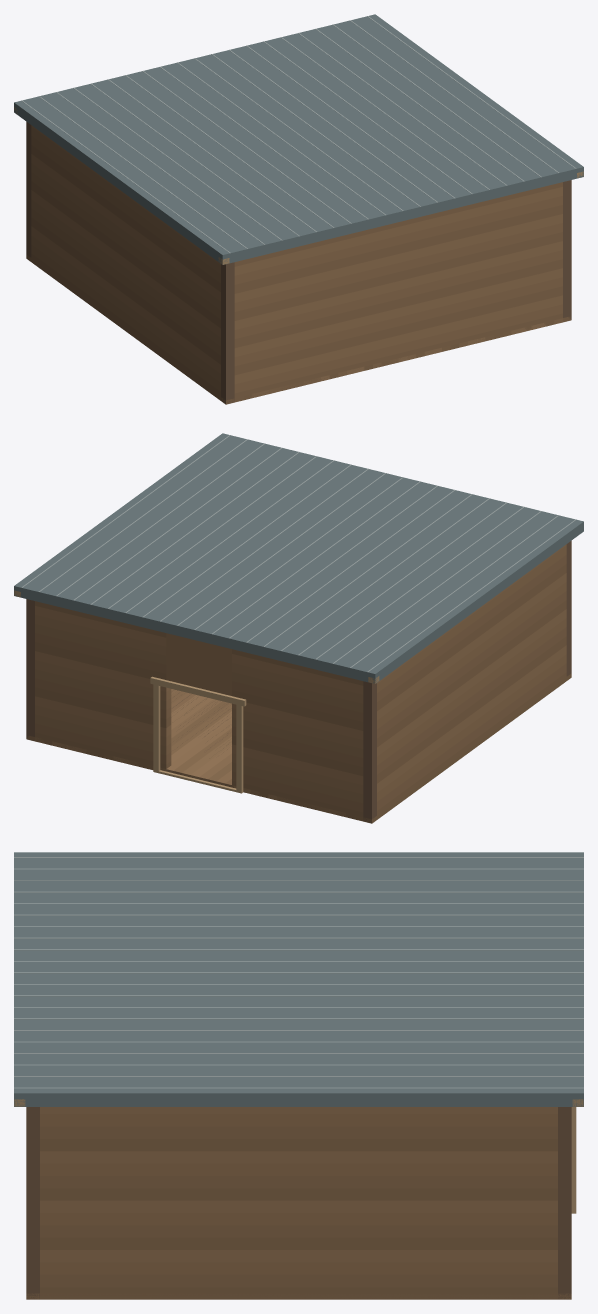
The model's file is cabin.glb.
The picture shows the model from 3 angles, top to bottom: view 1: azimuth 30°, elevation 25°; view 2: azimuth 150°, elevation 25°; view 3: azimuth 270°, elevation 25°; orthographic projection. The views are drawn at different scales.
Parts seen in each view (by area): view 1: cabin; view 2: cabin; view 3: cabin.
Part boxes in pixels (left/top/right/bottom): cabin: left=14, top=14, right=583, bottom=404; cabin: left=14, top=433, right=583, bottom=823; cabin: left=14, top=852, right=583, bottom=1299.
Bounding box in the file's own units: 10.45 × 4.28 × 10.45.
